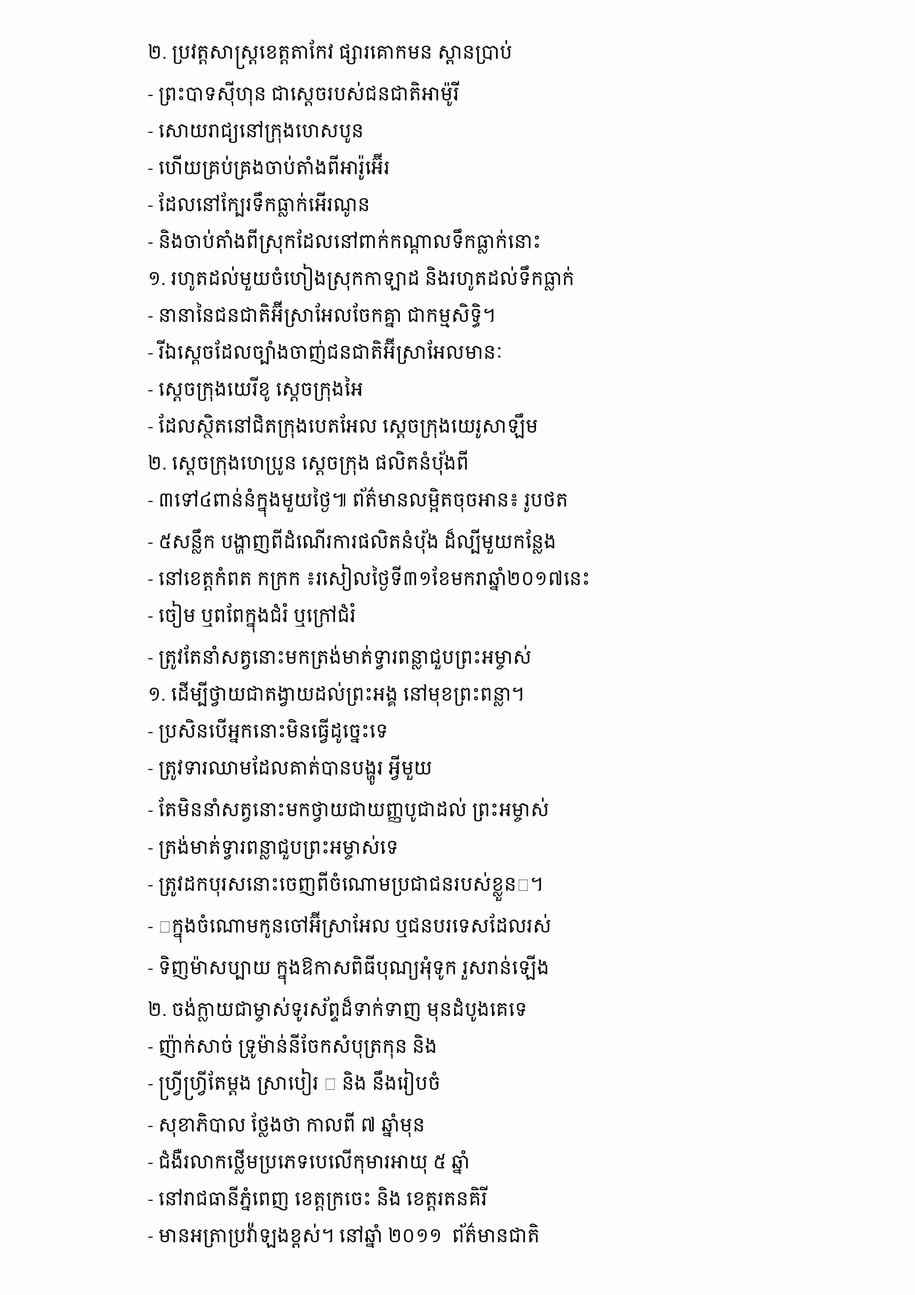text: (148, 911, 556, 943), (148, 487, 573, 517), (148, 955, 554, 985), (148, 564, 595, 591), (148, 871, 548, 901), (148, 264, 580, 291), (148, 40, 517, 69), (148, 797, 554, 823), (148, 529, 562, 554), (148, 1222, 545, 1248), (148, 413, 543, 439), (148, 337, 508, 365), (148, 996, 532, 1022), (148, 229, 546, 254), (148, 681, 529, 707), (148, 300, 501, 328), (148, 645, 536, 670), (148, 1068, 445, 1100), (148, 755, 437, 785), (148, 1186, 492, 1211), (148, 1148, 475, 1174), (148, 450, 474, 475), (148, 81, 464, 106), (148, 1033, 442, 1059), (148, 1112, 430, 1137), (148, 601, 361, 633), (148, 153, 395, 180), (148, 835, 403, 860), (148, 718, 393, 743), (148, 376, 368, 402), (148, 192, 375, 217), (148, 121, 369, 143)
